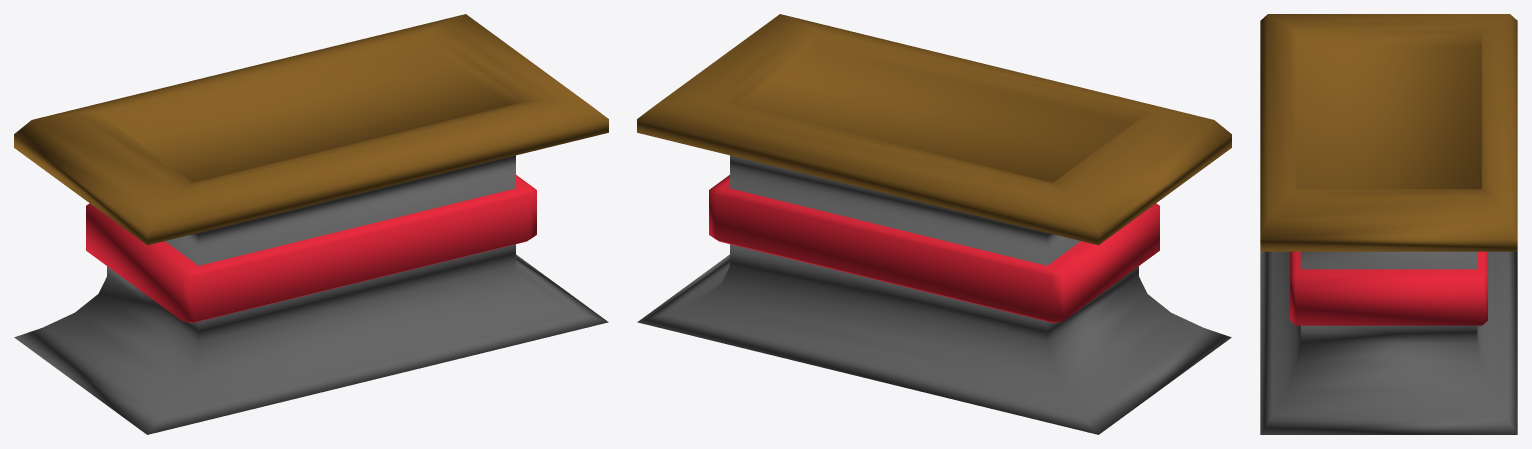
File: sanctuary_altar.glb
The picture shows the model from 3 angles, left to right: view 1: azimuth 30°, elevation 25°; view 2: azimuth 150°, elevation 25°; view 3: azimuth 270°, elevation 25°; orthographic projection. The views are drawn at different scales.
Visible parts, largest first — view 1: Sanctuary_Altar; view 2: Sanctuary_Altar; view 3: Sanctuary_Altar.
Part boxes in pixels (x1,y1,x2,y2): Sanctuary_Altar: (14,14,608,434); Sanctuary_Altar: (637,14,1231,434); Sanctuary_Altar: (1260,14,1517,434).
Size of the model in its own units: 2 by 0.9223 by 1.
